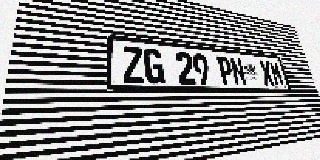2: (175, 51, 196, 84)
9: (192, 53, 212, 85)
G: (143, 48, 165, 84)
M: (268, 61, 285, 86)
N: (229, 57, 247, 85)
P: (216, 56, 235, 85)
X: (258, 60, 275, 86)
Z: (122, 46, 145, 84)
